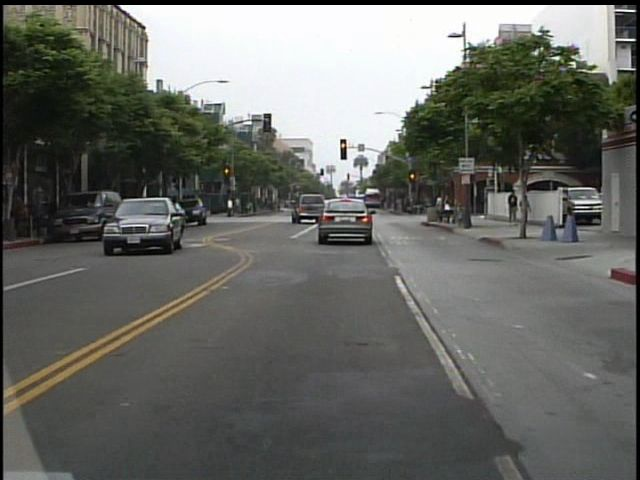person: (432, 189, 451, 225), (507, 186, 522, 228), (520, 189, 534, 226), (227, 193, 237, 219)
